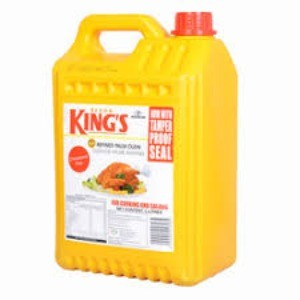vegetable oil_brain food: (61, 74, 220, 239)
